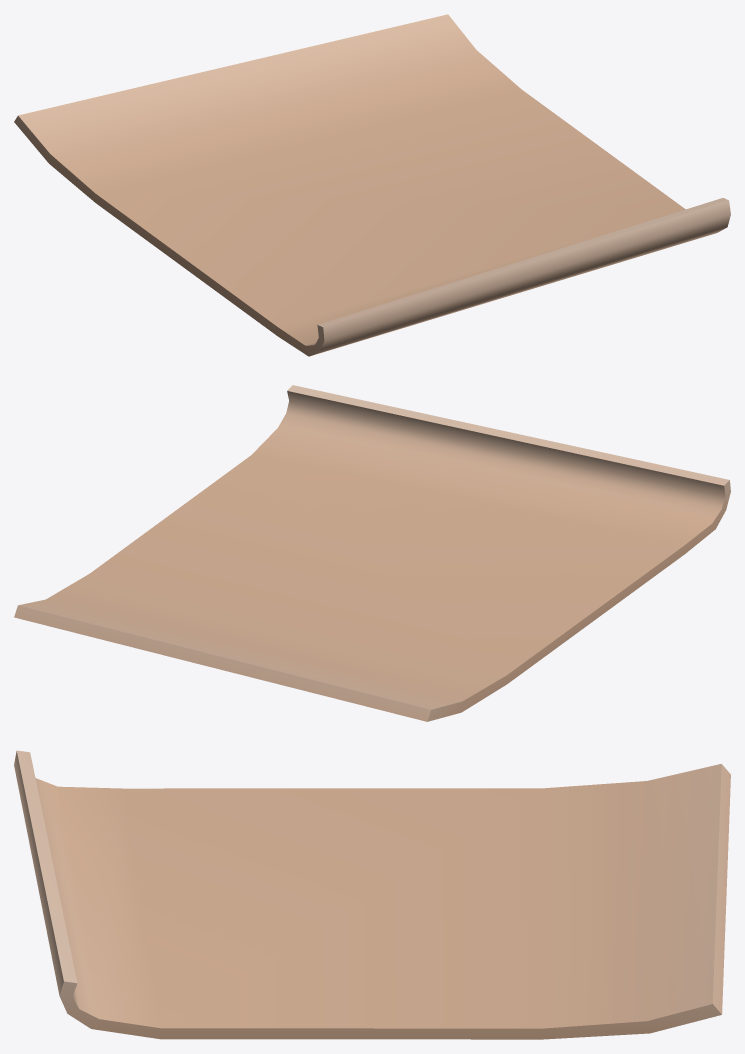
Rendered from Paper2.fbx.
3 renders of one model, top to bottom at view 1: azimuth 30°, elevation 25°; view 2: azimuth 150°, elevation 25°; view 3: azimuth 270°, elevation 25°, orthographic. The views are drawn at different scales.
Parts seen in each view (by area): view 1: Paper2; view 2: Paper2; view 3: Paper2.
Part boxes in pixels (<box>): Paper2: <box>14,14,730,356</box>; Paper2: <box>14,385,730,721</box>; Paper2: <box>14,750,730,1039</box>.
Size of the model in its own units: 22.93 by 2.59 by 28.92.
